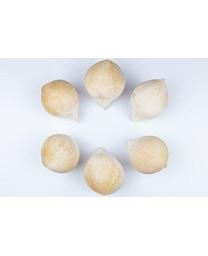coconut: (85, 60, 126, 109), (82, 149, 124, 194), (41, 79, 81, 122), (127, 136, 168, 175), (130, 79, 168, 121), (41, 133, 79, 174)
